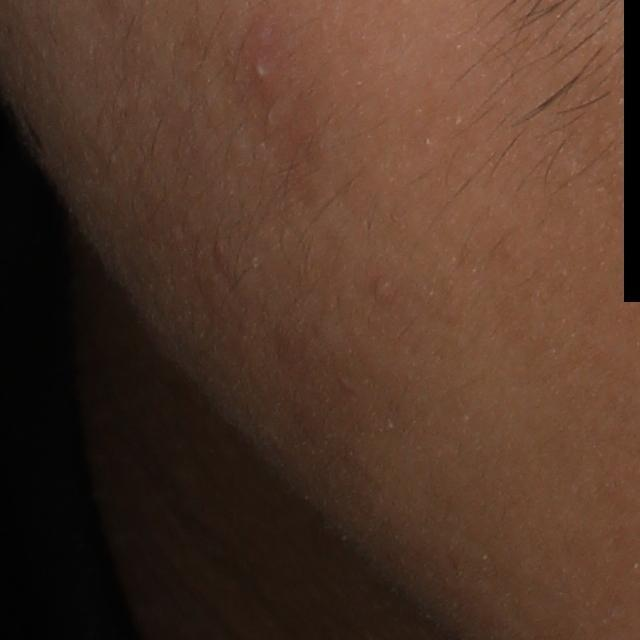pustule: (250, 56, 274, 86)
